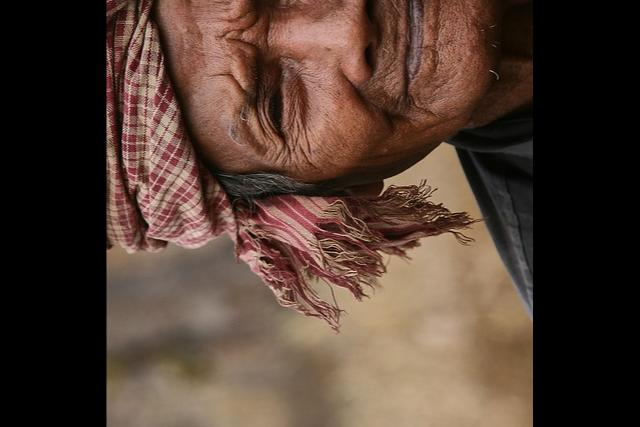Non_Gorille: (106, 0, 533, 347)
